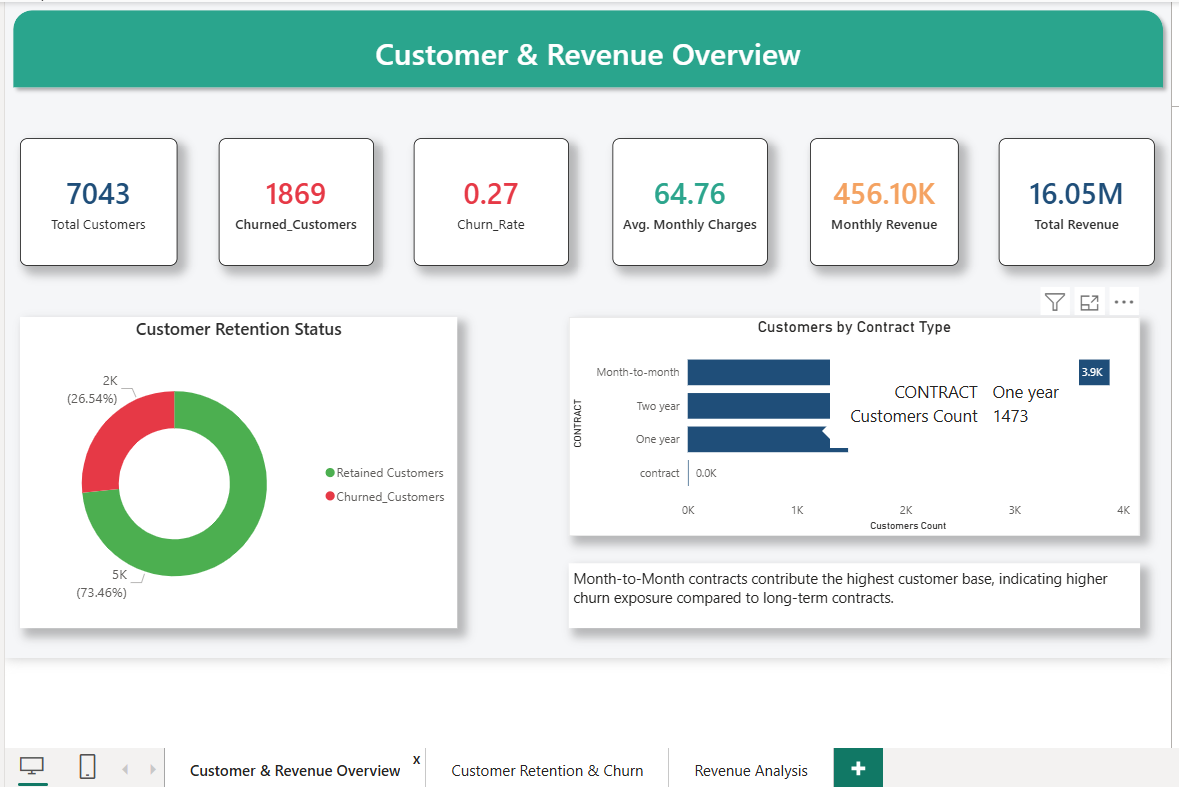

The dashboard page shown, as its layout file describes it:
{"tool":"powerbi","page":{"name":"Customer & Revenue Overview","canvas":[1280,720],"ordinal":0},"visuals":[{"type":"card","fields":{"Values":["DIM_CONTRACT.Total Customers"]},"box":[16.5,149.6,172.9,140],"z":0},{"type":"card","fields":{"Values":["DIM_CONTRACT.Churn_Rate"]},"box":[448.7,149.6,170.2,140],"z":1000},{"type":"card","fields":{"Values":["DIM_CONTRACT.Avg. Monthly Charges"]},"box":[666.9,149.6,170.2,140],"z":2000},{"type":"card","fields":{"Values":["DIM_CONTRACT.Monthly Revenue"]},"box":[883.7,149.6,163.3,140],"z":3000},{"type":"card","fields":{"Values":["DIM_CONTRACT.Churned_Customers"]},"box":[234.6,149.6,170.2,140],"z":4000},{"type":"card","fields":{"Values":["DIM_CONTRACT.Total Revenue"]},"box":[1090.9,149.6,171.5,140],"z":5000},{"type":"donutChart","title":"Customer Retention Status","fields":{"Y":["DIM_CONTRACT.Retained Customers","DIM_CONTRACT.Churned_Customers"]},"box":[16.5,345.8,480.3,341.7],"z":6000},{"type":"clusteredBarChart","title":"Customers by Contract Type","fields":{"Category":["DIM_CONTRACT.CONTRACT"],"Y":["DIM_CONTRACT.Customers Count"]},"box":[618.9,345.8,627.1,240.1],"z":7000},{"type":"shape","box":[0,0,1280.3,102.9],"z":8000},{"type":"textbox","box":[618.9,616.1,627.1,71.4],"z":9000}]}

Visuals, with their boxes on the page's 1280x720 design canvas (x1, y1, x2, y2). These are canvas units, not pixel positions in the 1179x787 screenshot, which may show the page scaled, cropped or inside an application window:
card - DIM_CONTRACT.Total Customers: box(16, 150, 189, 290)
card - DIM_CONTRACT.Churn_Rate: box(449, 150, 619, 290)
card - DIM_CONTRACT.Avg. Monthly Charges: box(667, 150, 837, 290)
card - DIM_CONTRACT.Monthly Revenue: box(884, 150, 1047, 290)
card - DIM_CONTRACT.Churned_Customers: box(235, 150, 405, 290)
card - DIM_CONTRACT.Total Revenue: box(1091, 150, 1262, 290)
"Customer Retention Status" donutChart: box(16, 346, 497, 688)
"Customers by Contract Type" clusteredBarChart: box(619, 346, 1246, 586)
shape: box(0, 0, 1280, 103)
textbox: box(619, 616, 1246, 688)
